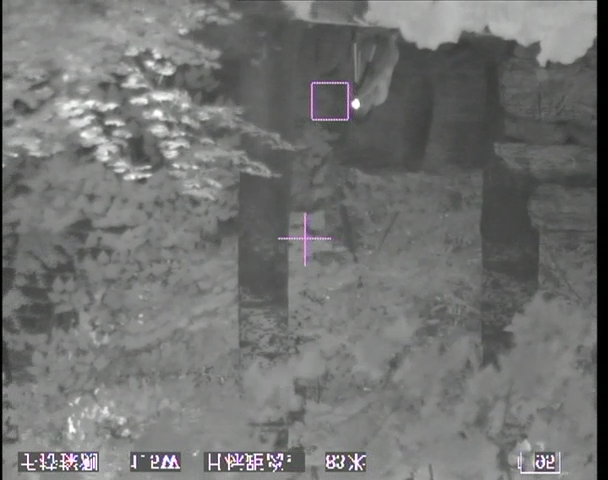my: (348, 98, 362, 111)
